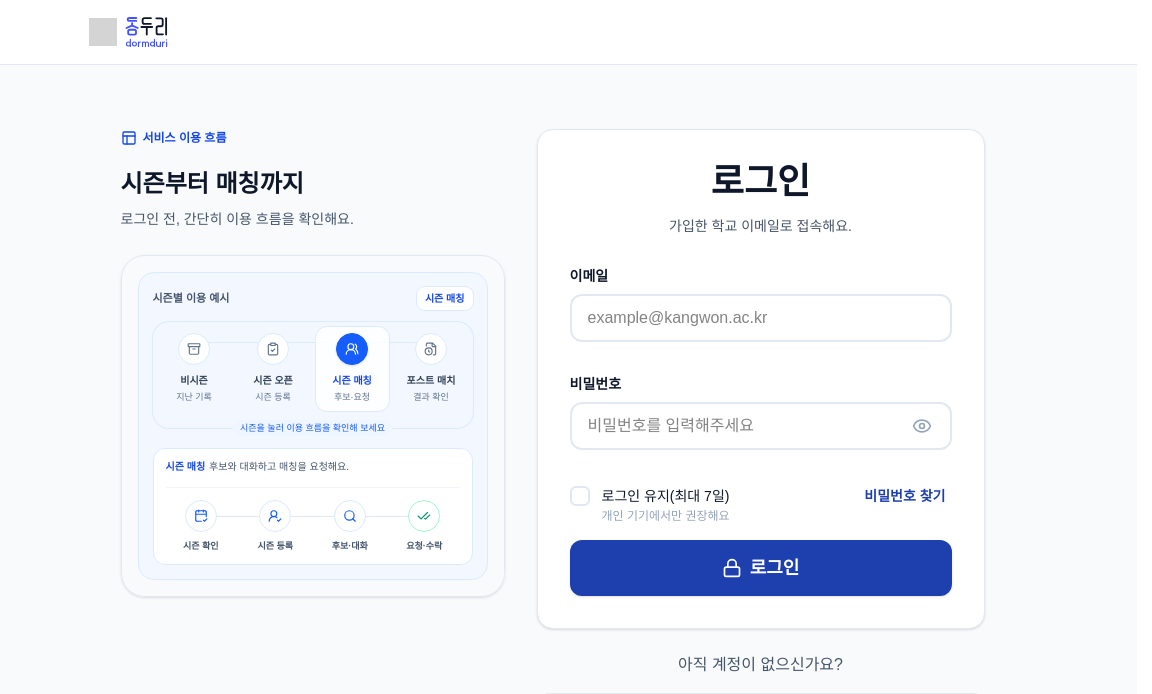
Test: LoginPageClient › 빈 필드 제출 시 유효성 검사 에러를 표시한다
The image size is (1152, 694).
Step 1. Click the button "로그인" → (760, 568), box x1=570 y1=540 x2=952 y2=596
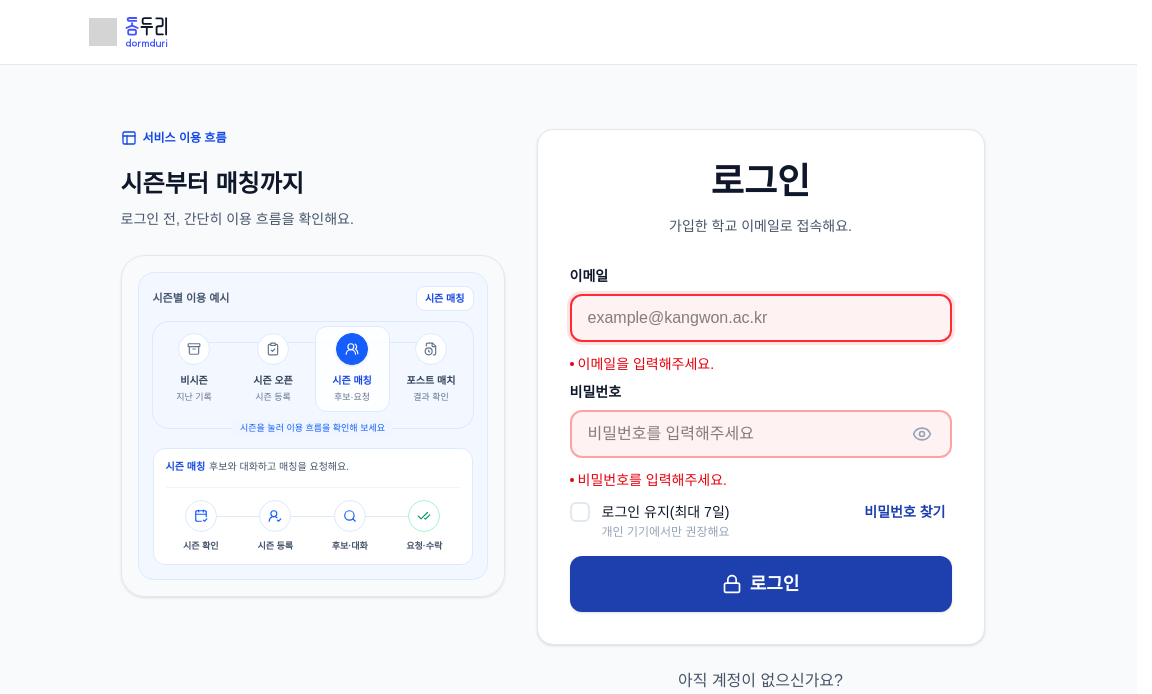
Check: the text "이메일을 입력해주세요." is shown, box x1=570 y1=356 x2=714 y2=372
Check: the text "비밀번호를 입력해주세요." is shown, box x1=570 y1=472 x2=727 y2=488
